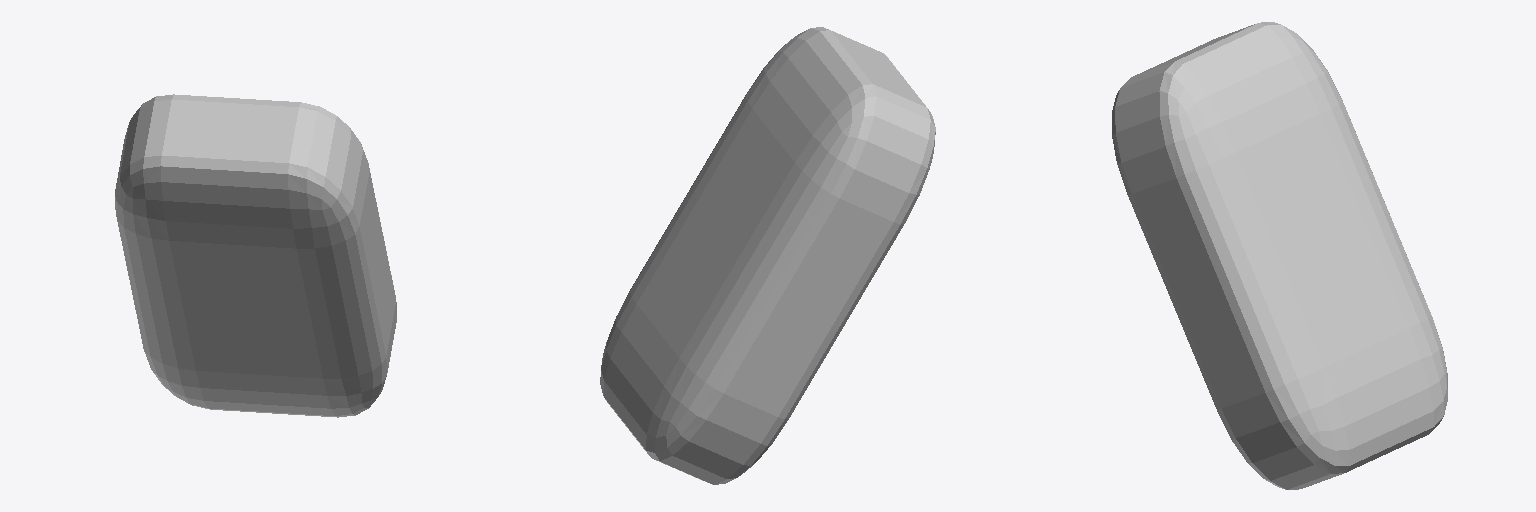
The model's file is balloon_sandbag.obj.
The picture shows the model from 3 angles: view 1: azimuth 30°, elevation 25°; view 2: azimuth 150°, elevation 25°; view 3: azimuth 270°, elevation 25°; orthographic projection.
Parts seen in each view (by area): view 1: Cube_Cube.002_Cube_Cube.003; view 2: Cube_Cube.002_Cube_Cube.003; view 3: Cube_Cube.002_Cube_Cube.003.
Part boxes in pixels (bbox=[...]): Cube_Cube.002_Cube_Cube.003: bbox=[115, 94, 396, 417]; Cube_Cube.002_Cube_Cube.003: bbox=[600, 27, 935, 484]; Cube_Cube.002_Cube_Cube.003: bbox=[1112, 22, 1447, 489].
Size of the model in its own units: 3.8 by 4.69 by 3.77.